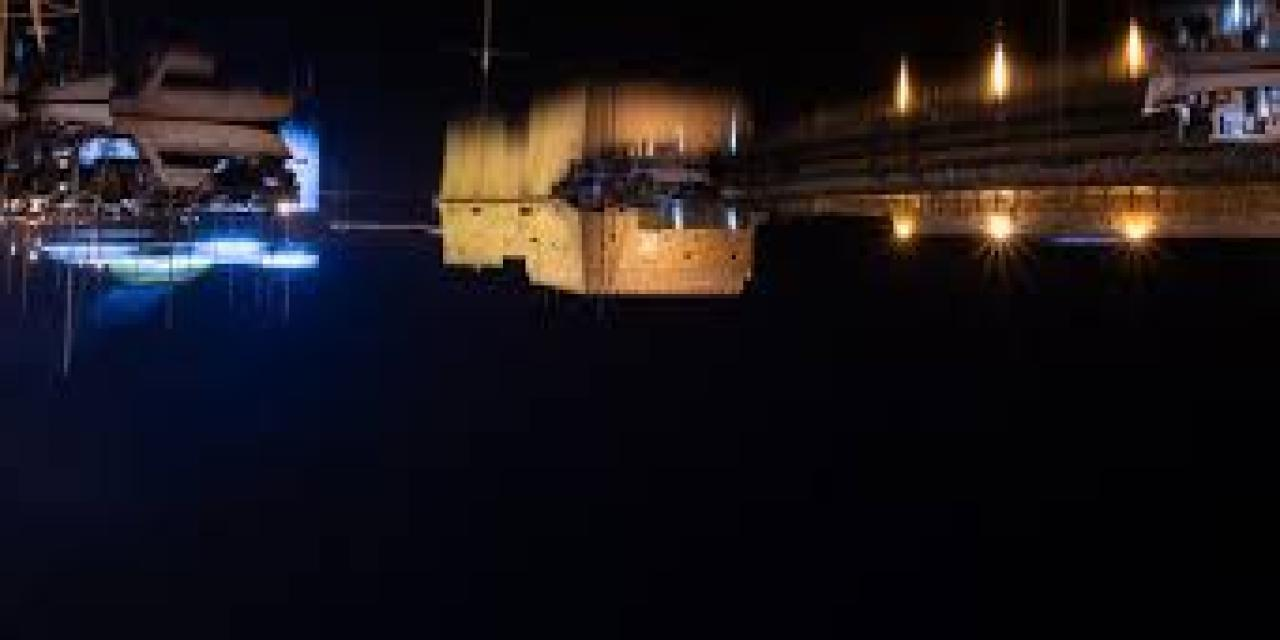Kules: (434, 197, 759, 303)
